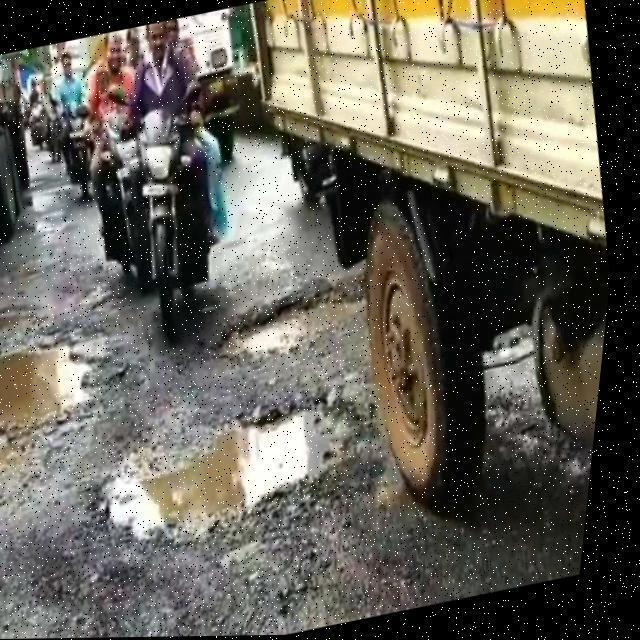Pothole: (87, 392, 378, 545), (0, 324, 118, 494), (209, 281, 366, 363)
